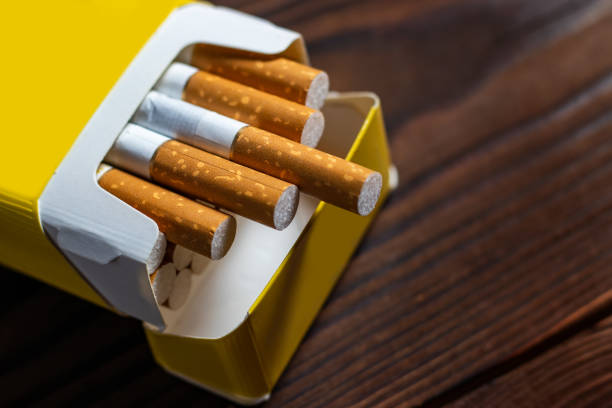cigarette: (0, 0, 399, 408), (130, 92, 384, 215), (104, 122, 301, 231), (154, 62, 325, 148), (94, 162, 239, 261), (176, 42, 330, 111), (161, 268, 191, 310), (150, 263, 178, 305), (164, 240, 194, 269), (190, 252, 210, 275)
